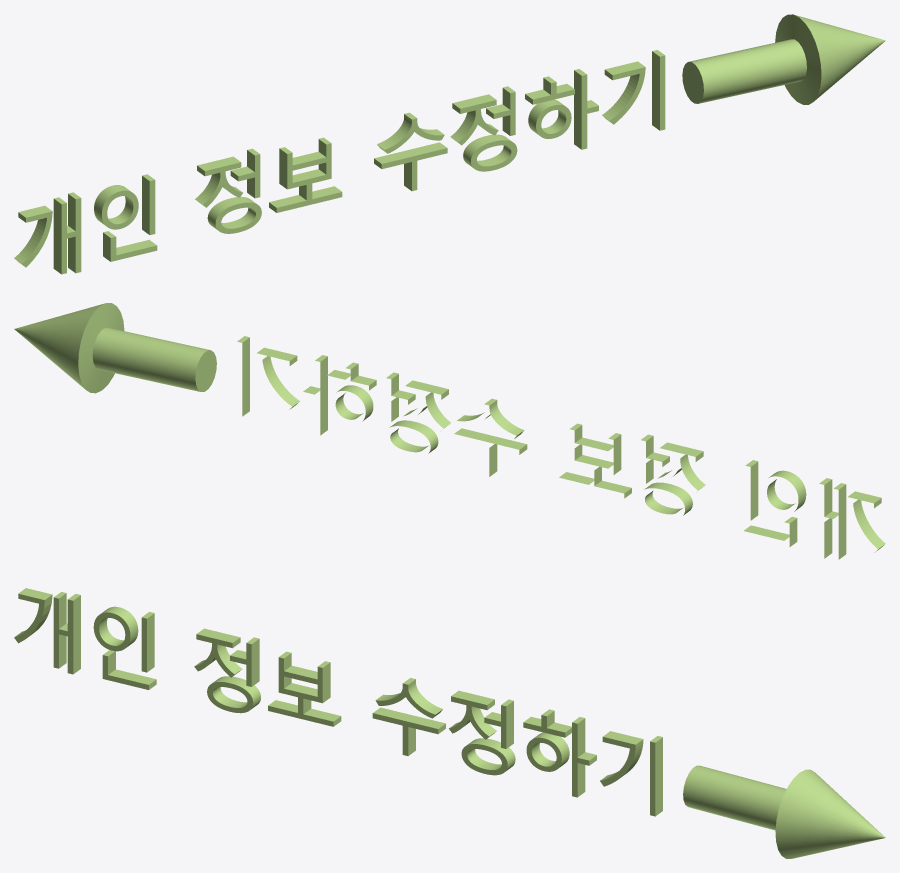
File: updateusertext.gltf
3 renders of one model, top to bottom at view 1: azimuth 30°, elevation 25°; view 2: azimuth 150°, elevation 25°; view 3: azimuth 330°, elevation 25°, orthographic.
Visible parts, largest first — view 1: Cone001; view 2: Cone001; view 3: Cone001.
Boxes of the visible parts, x1,y1,x2,y2 form: Cone001: (14,14,885,274); Cone001: (14,303,885,559); Cone001: (14,588,885,858).
Bounding box in the file's own units: 4.42 × 0.4087 × 0.4088.
